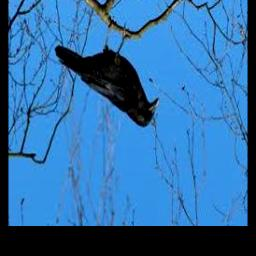Crow: (55, 23, 160, 128)
